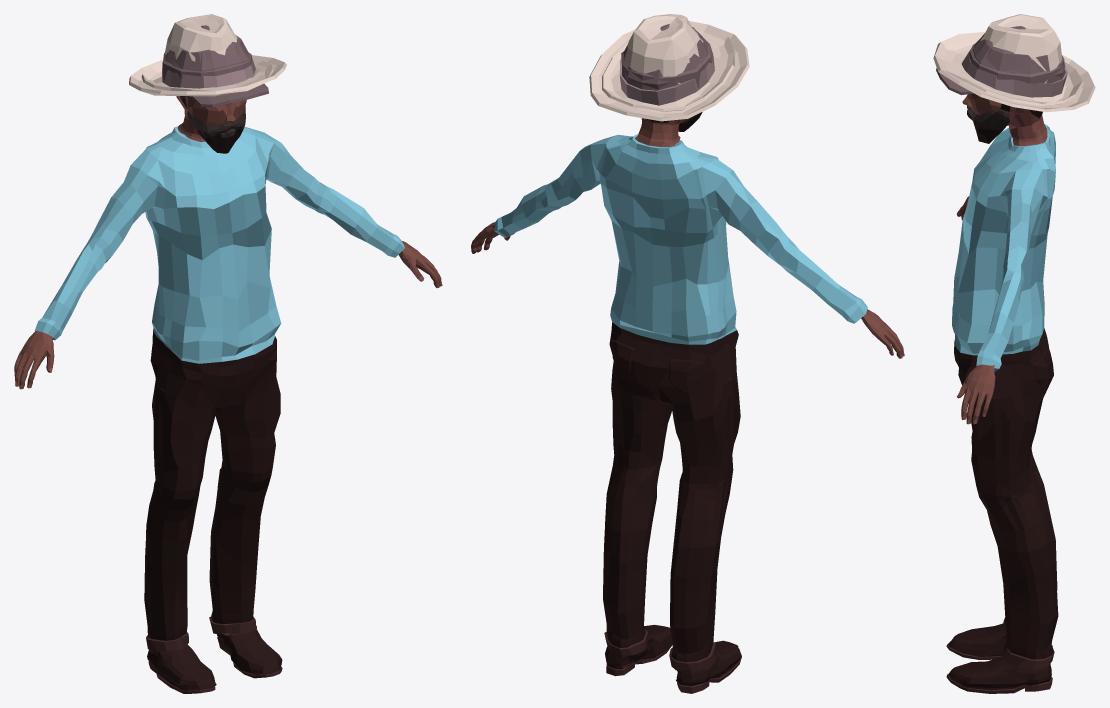
File: character_NPC_M_01.fbx
3 renders of one model, left to right at view 1: azimuth 30°, elevation 25°; view 2: azimuth 150°, elevation 25°; view 3: azimuth 270°, elevation 25°, orthographic.
Visible parts, largest first — view 1: charaBody_npcM_V01_geo, charaProps_NPC_M_V03_geo, charaProps_NPC_M_V01_geo, charaProps_NPC_M_V02_geo, charaProps_NPC_M_V05_geo, charaProps_NPC_M_V04_geo; view 2: charaBody_npcM_V01_geo, charaProps_NPC_M_V03_geo, charaProps_NPC_M_V04_geo, charaProps_NPC_M_V05_geo, charaProps_NPC_M_V01_geo; view 3: charaBody_npcM_V01_geo, charaProps_NPC_M_V03_geo, charaProps_NPC_M_V01_geo, charaProps_NPC_M_V04_geo, charaProps_NPC_M_V05_geo, charaProps_NPC_M_V02_geo, charaBeard_NPC_M_V01_geo, charaBeard_NPC_M_V02_geo.
Boxes of the visible parts, x1,y1,x2,y2 form: charaBody_npcM_V01_geo: [14, 96, 442, 693]; charaProps_NPC_M_V03_geo: [129, 14, 286, 96]; charaProps_NPC_M_V01_geo: [163, 25, 251, 81]; charaProps_NPC_M_V02_geo: [166, 44, 268, 107]; charaProps_NPC_M_V05_geo: [162, 58, 255, 88]; charaProps_NPC_M_V04_geo: [141, 59, 273, 93]; charaBody_npcM_V01_geo: [471, 118, 904, 693]; charaProps_NPC_M_V03_geo: [589, 14, 749, 121]; charaProps_NPC_M_V04_geo: [602, 36, 734, 111]; charaProps_NPC_M_V05_geo: [619, 46, 714, 105]; charaProps_NPC_M_V01_geo: [621, 24, 711, 90]; charaBody_npcM_V01_geo: [946, 93, 1058, 693]; charaProps_NPC_M_V03_geo: [933, 14, 1095, 112]; charaProps_NPC_M_V01_geo: [969, 26, 1064, 83]; charaProps_NPC_M_V04_geo: [943, 39, 1083, 105]; charaProps_NPC_M_V05_geo: [961, 49, 1067, 97]; charaProps_NPC_M_V02_geo: [936, 39, 1064, 95]; charaBeard_NPC_M_V01_geo: [968, 107, 1009, 130]; charaBeard_NPC_M_V02_geo: [973, 123, 1002, 143].
Size of the model in its own units: 339 by 490 by 112.
